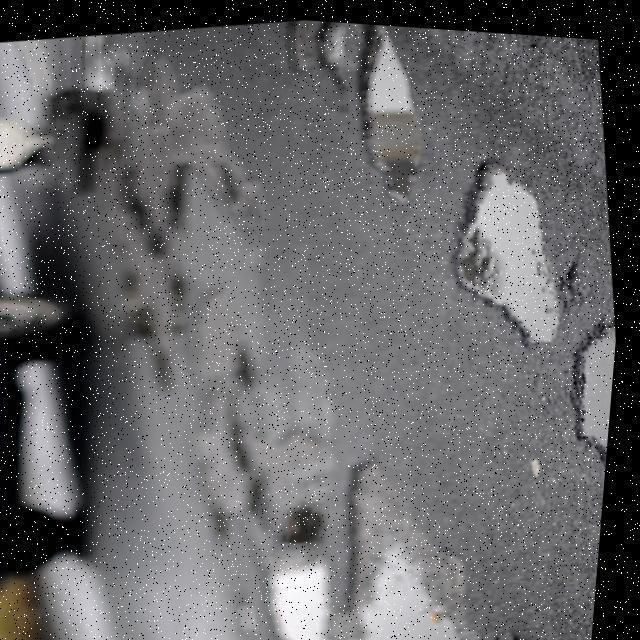Pothole: (331, 461, 478, 640), (461, 169, 560, 342), (365, 28, 422, 199), (269, 508, 330, 640), (582, 328, 615, 447)
